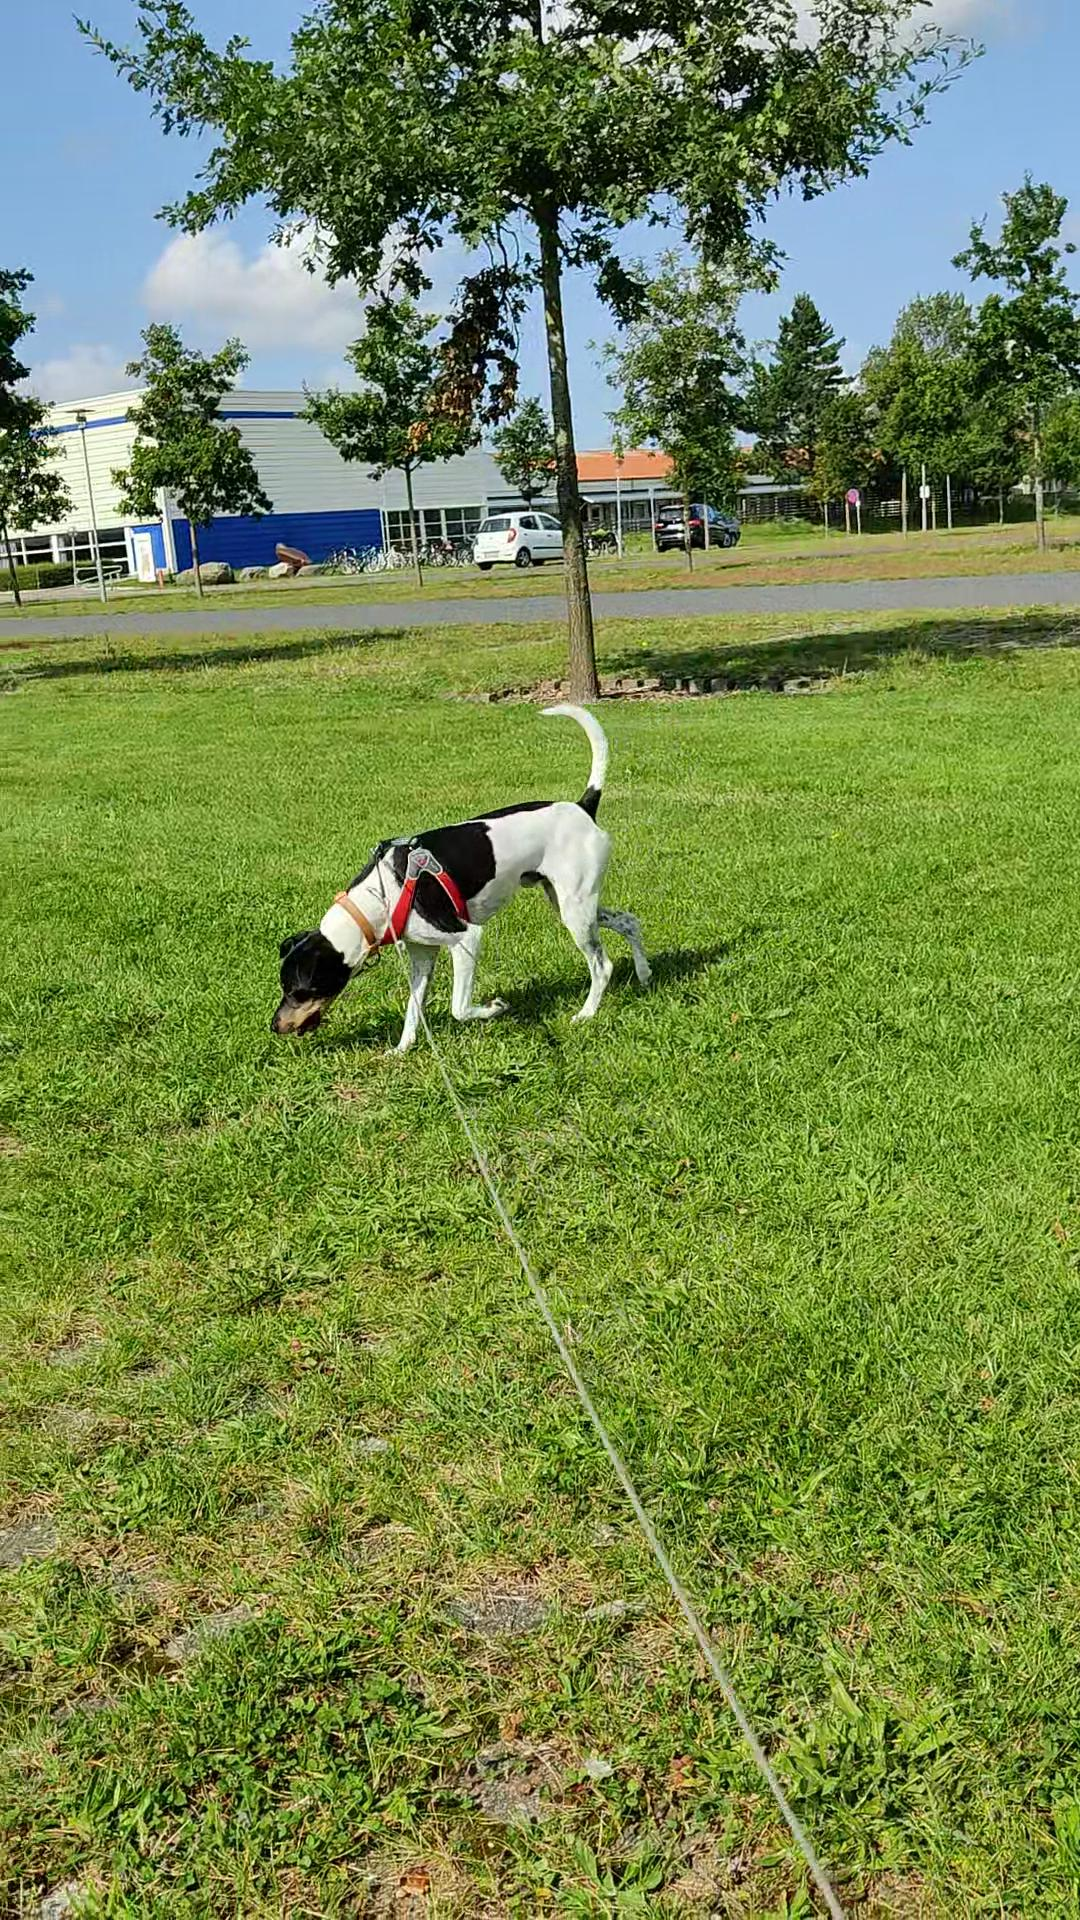Dog: (255, 698, 659, 1073)
